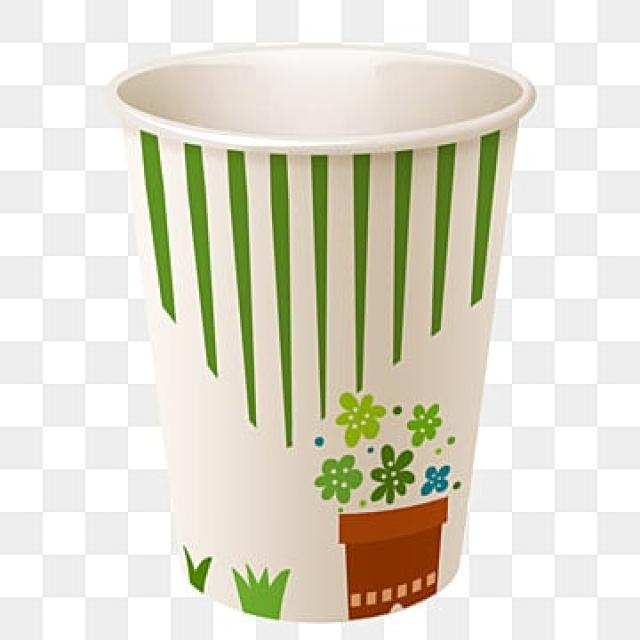PaperCardboard: (108, 41, 536, 622)
